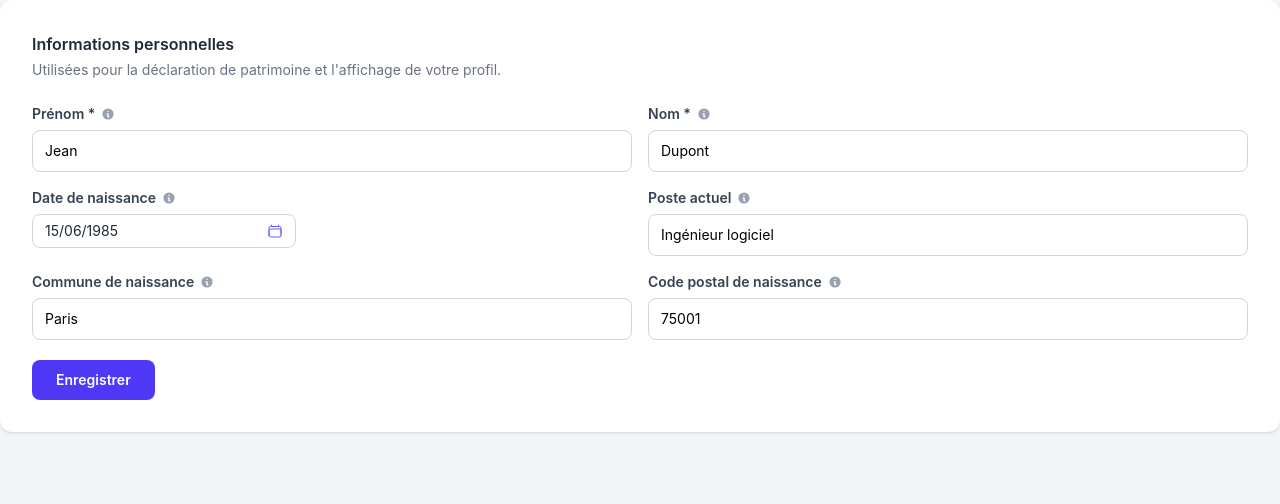
it: PersonalInfoPanel › affiche une erreur générique si l'API échoue
Click the button "Enregistrer": coordinates (93, 380) x1=32 y1=360 x2=155 y2=400
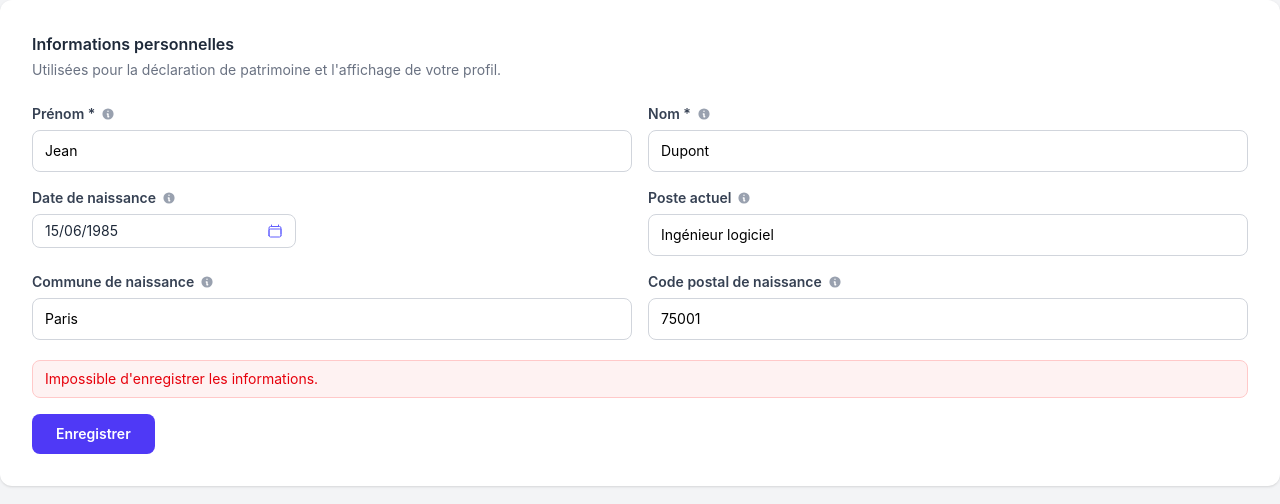
expect the text "Impossible d'enregistrer les informations." is shown: met, box x1=32 y1=360 x2=1248 y2=398
